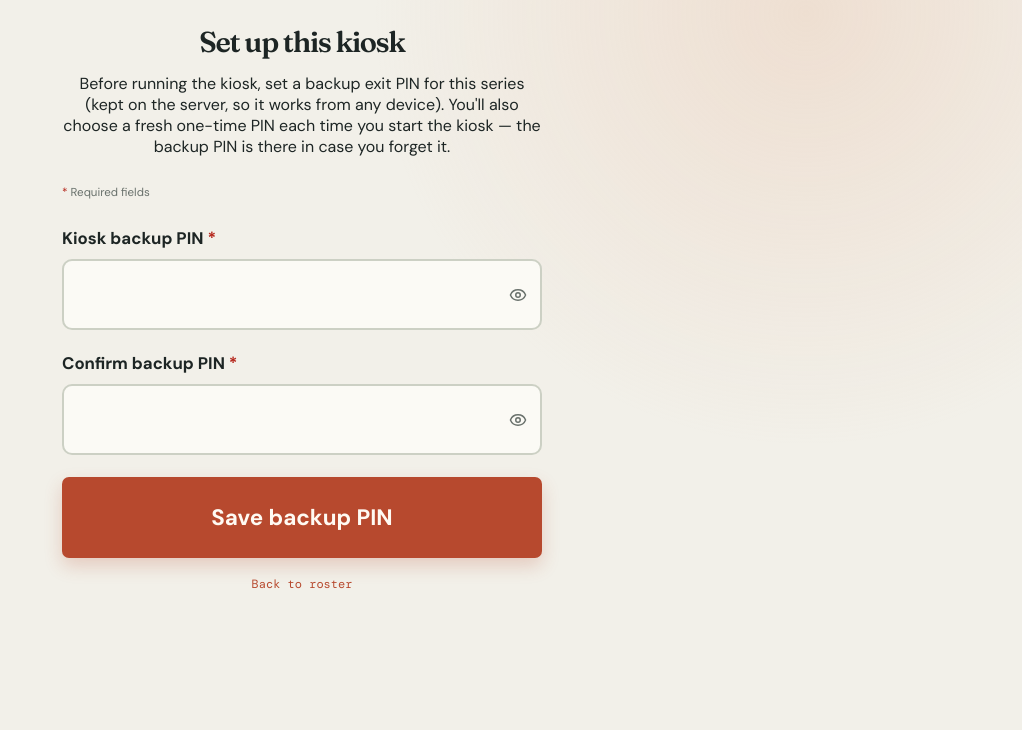
Test: KioskPage behavior › shows or masks both PIN fields and saves the plaintext PIN during first-time setup
Click the button named "Show Kiosk backup PIN" at (518, 294), box [496,259,540,330]
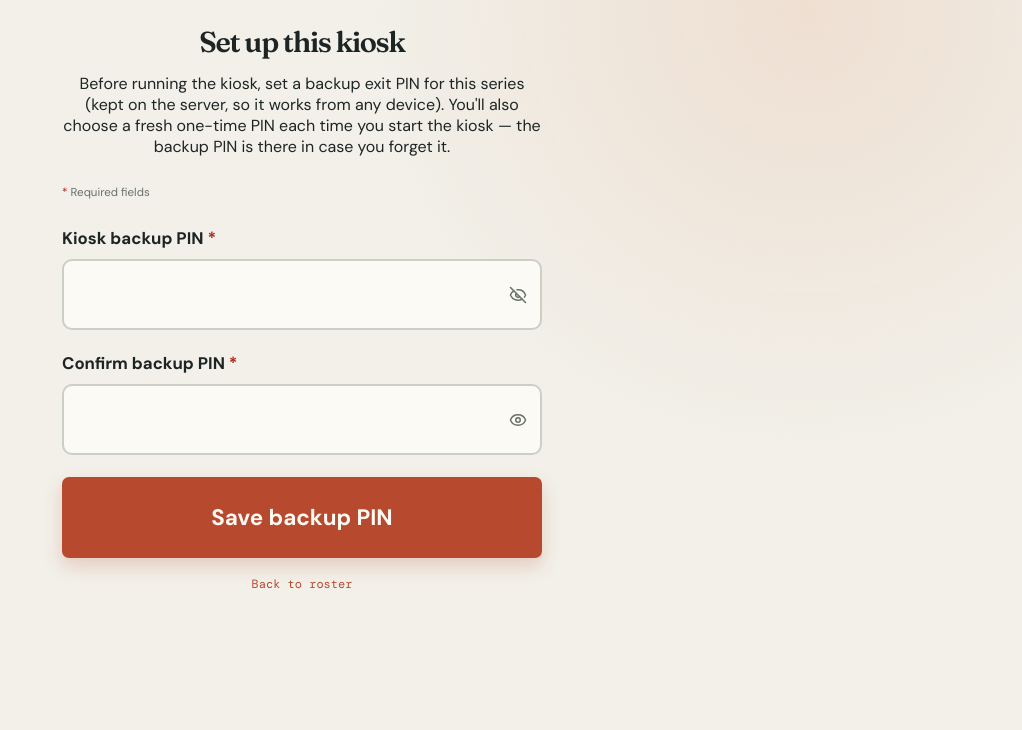
Click the button named "Show Confirm backup PIN" at (518, 420), box [496,384,540,455]
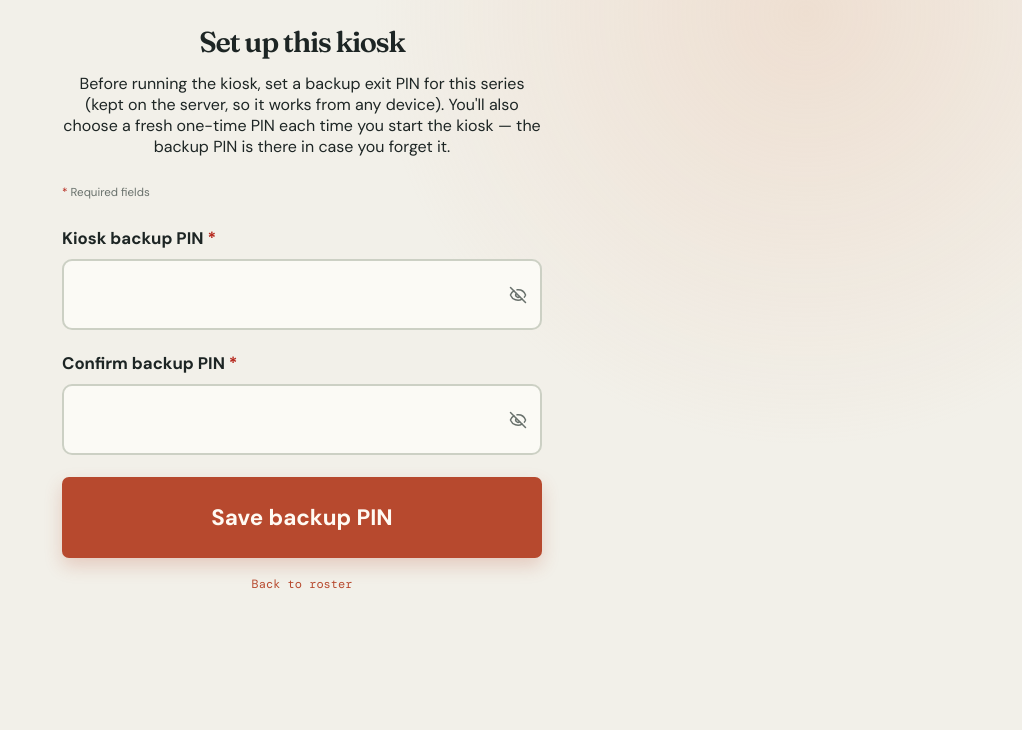
Click the button named "Hide Kiosk backup PIN" at (518, 294), box [496,259,540,330]
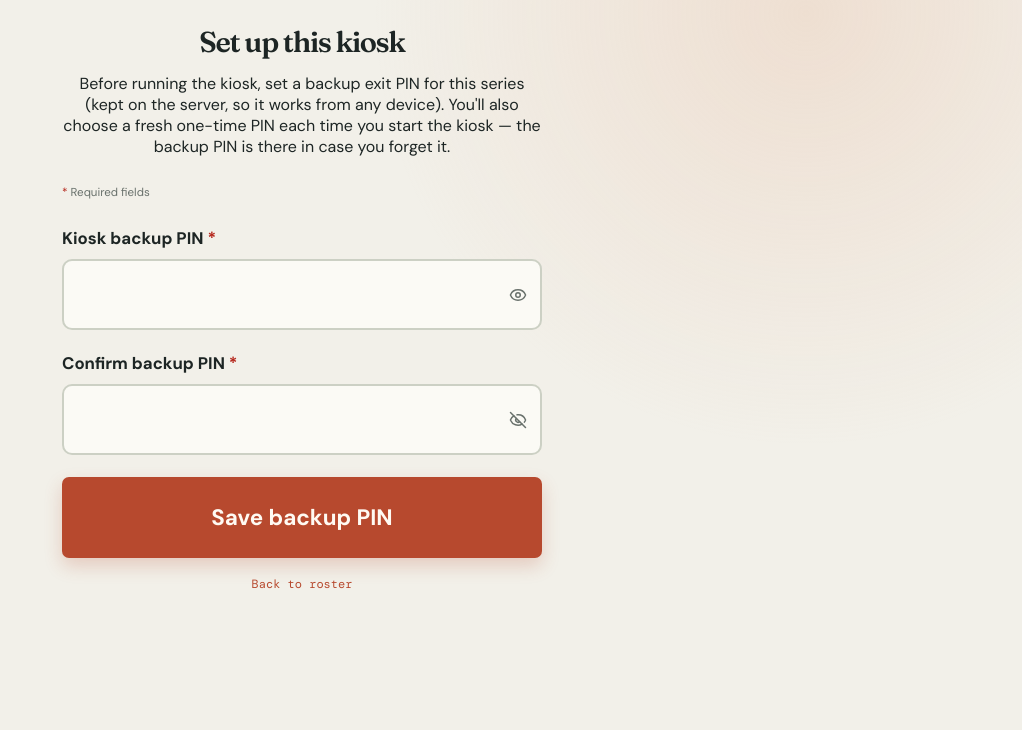
Type "2468" into the password field labelled "Kiosk backup PIN *" at (302, 294), box [62,259,542,330]
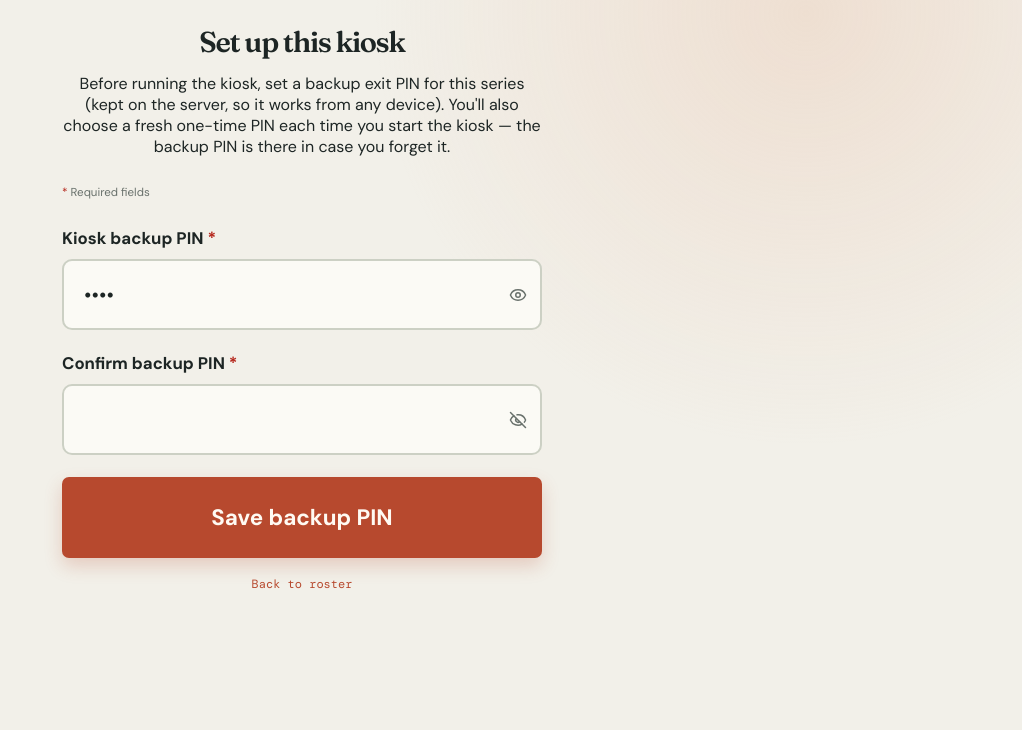
Type "2468" into the field labelled "Confirm backup PIN *" at (302, 420), box [62,384,542,455]
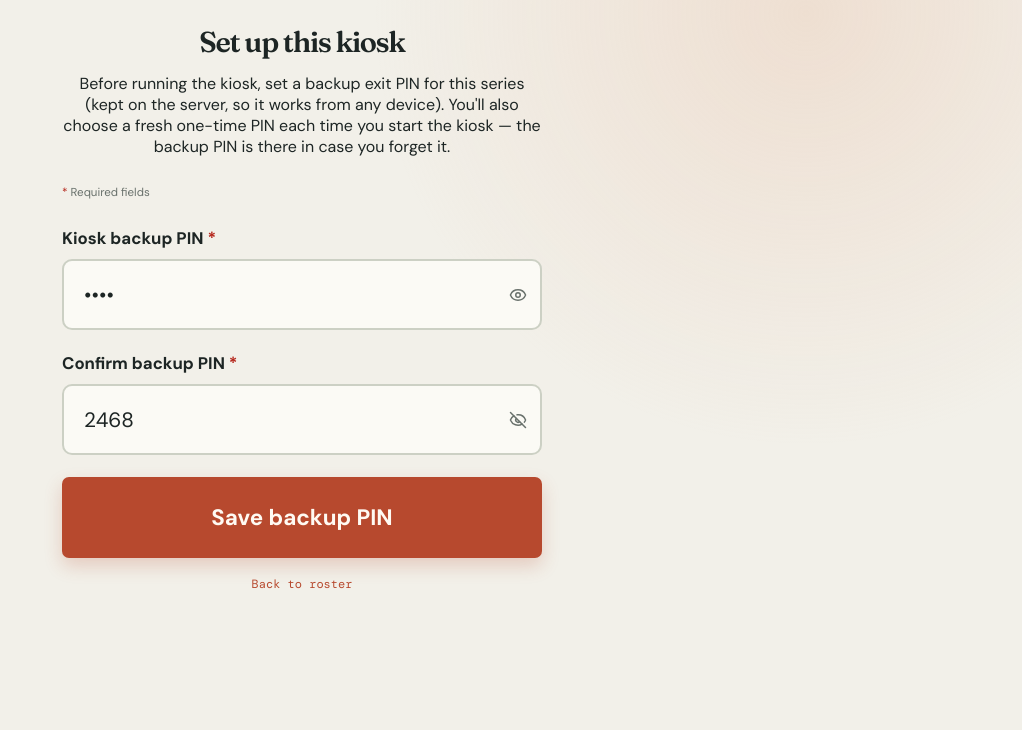
Click the button "Save backup PIN" at (302, 518), box [62,477,542,558]
(page scrolled)
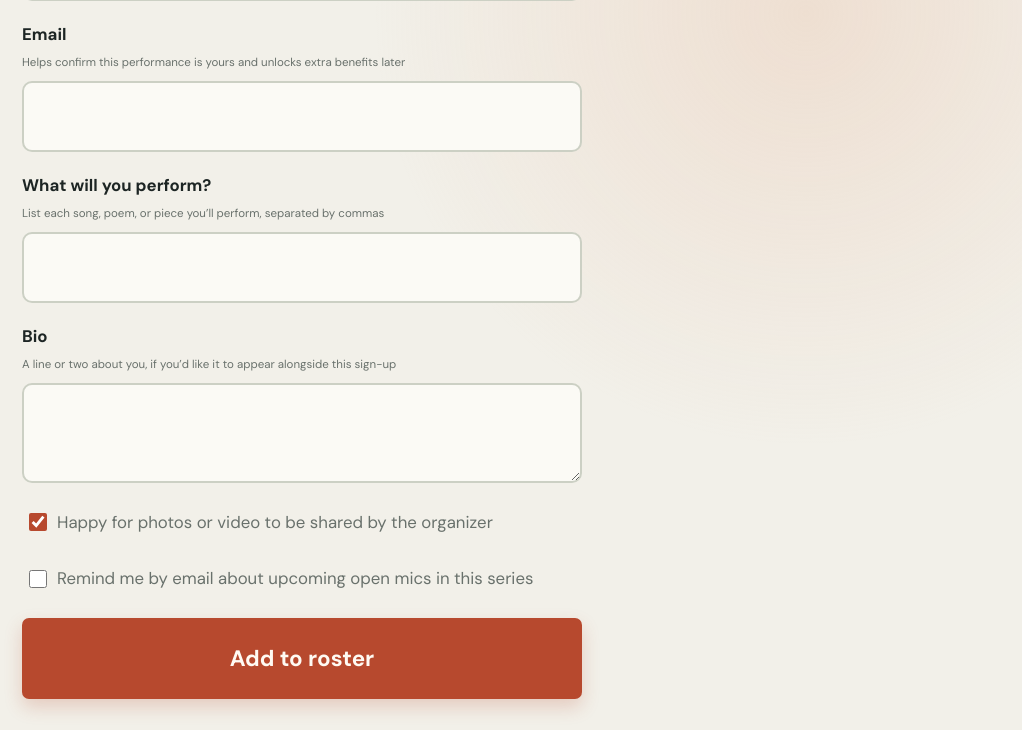
expect the button "Add to roster" is shown: met, box [22,618,582,699]
